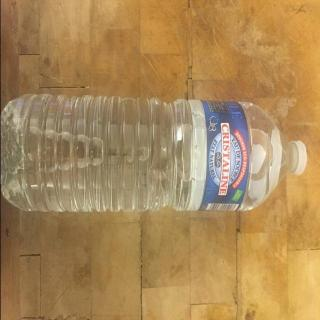Anorganik: (0, 91, 312, 221)
